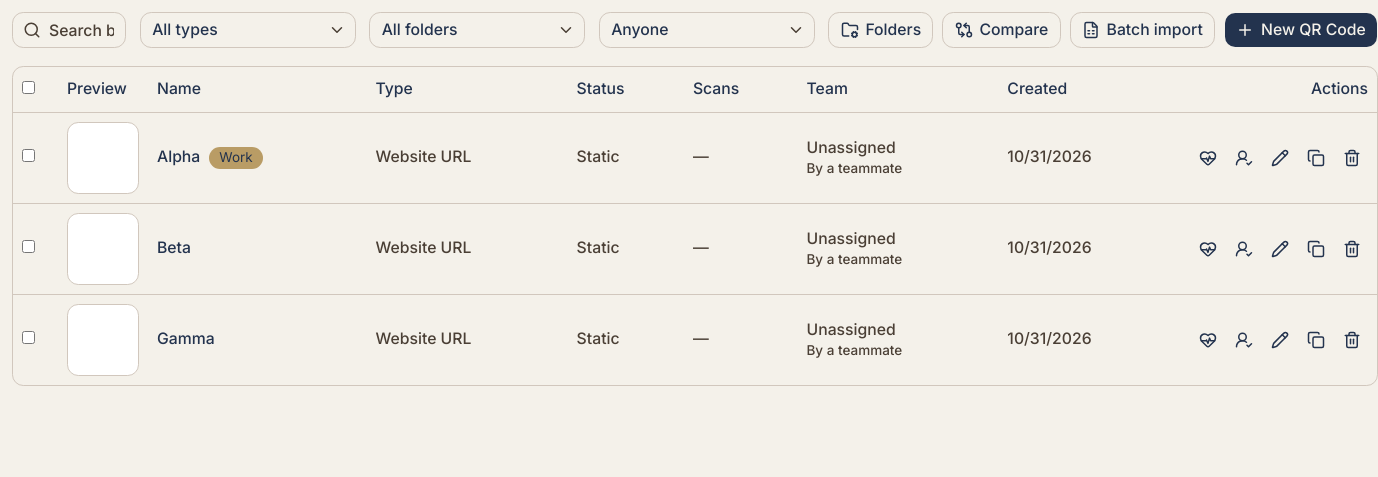
QRCodeList folders, selection and duplicate › selects everything on the page with the header checkbox
The image size is (1378, 477).
Click the checkbox named "Select all on this page": [28, 88] box [22,81,35,94]
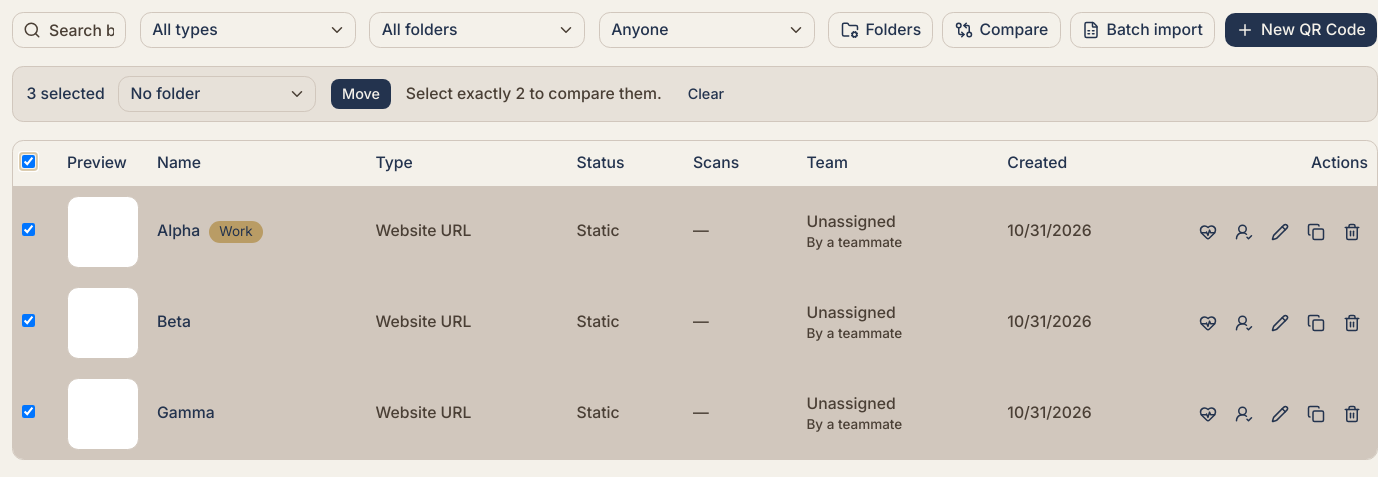
Result: the element named "Selection actions" shows "3 selected" at [12,66,1377,122]
